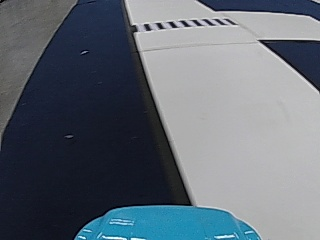CrossWalk: (133, 16, 231, 31)
